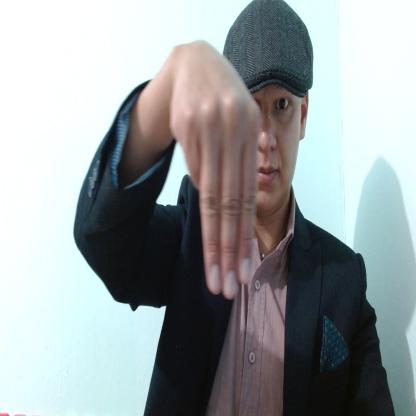M: (170, 40, 260, 300)
